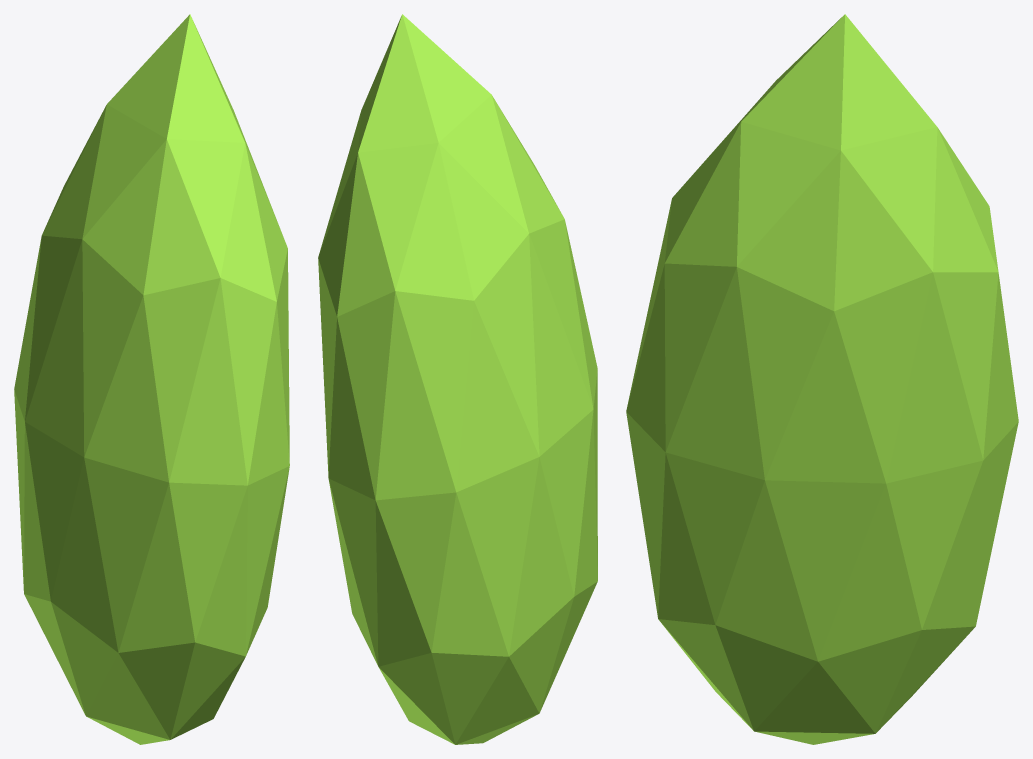
3 renders of one model, left to right at view 1: azimuth 30°, elevation 25°; view 2: azimuth 150°, elevation 25°; view 3: azimuth 270°, elevation 25°, orthographic. The views are drawn at different scales.
Visible parts, largest first — view 1: Icosphere.001; view 2: Icosphere.001; view 3: Icosphere.001.
Boxes of the visible parts, <box> form: Icosphere.001: <box>14,14,289,744</box>; Icosphere.001: <box>318,14,597,744</box>; Icosphere.001: <box>626,14,1018,744</box>.
Bounding box in the file's own units: 0.1798 × 0.5603 × 0.2606.
